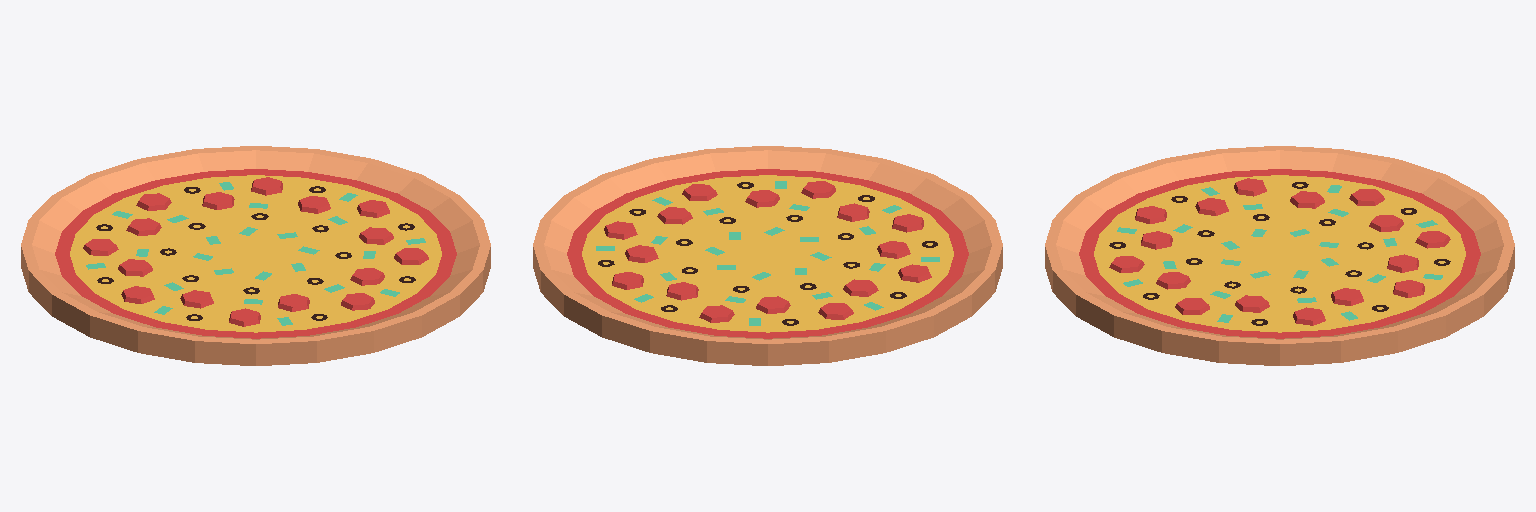
File: pizza.obj
The picture shows the model from 3 angles: view 1: azimuth 30°, elevation 25°; view 2: azimuth 150°, elevation 25°; view 3: azimuth 270°, elevation 25°; orthographic projection.
Parts seen in each view (by area): view 1: slice7, slice8, slice6, slice3, slice4, slice2, slice1, slice5; view 2: slice2, slice1, slice3, slice6, slice5, slice7, slice8, slice4; view 3: slice4, slice5, slice1, slice8, slice3, slice6, slice2, slice7.
Boxes of the visible parts, x1=… form: slice7: x1=195, y1=254, x2=373, y2=365; slice8: x1=52, y1=254, x2=255, y2=362; slice6: x1=257, y1=254, x2=482, y2=352; slice3: x1=139, y1=146, x2=316, y2=252; slice4: x1=256, y1=149, x2=458, y2=253; slice2: x1=30, y1=159, x2=255, y2=253; slice1: x1=21, y1=219, x2=252, y2=315; slice5: x1=257, y1=195, x2=490, y2=291; slice2: x1=650, y1=254, x2=828, y2=365; slice1: x1=768, y1=254, x2=971, y2=362; slice3: x1=541, y1=254, x2=766, y2=352; slice6: x1=707, y1=146, x2=884, y2=252; slice5: x1=565, y1=149, x2=767, y2=253; slice7: x1=768, y1=159, x2=993, y2=253; slice8: x1=771, y1=219, x2=1002, y2=315; slice4: x1=533, y1=195, x2=766, y2=291; slice4: x1=1280, y1=254, x2=1445, y2=365; slice5: x1=1114, y1=254, x2=1279, y2=365; slice1: x1=1280, y1=146, x2=1445, y2=253; slice8: x1=1114, y1=146, x2=1279, y2=253; slice3: x1=1282, y1=245, x2=1514, y2=336; slice6: x1=1045, y1=245, x2=1277, y2=336; slice2: x1=1281, y1=175, x2=1514, y2=253; slice7: x1=1045, y1=175, x2=1278, y2=253.
Bounding box in the file's own units: 0.8418 × 0.0435 × 0.8418.